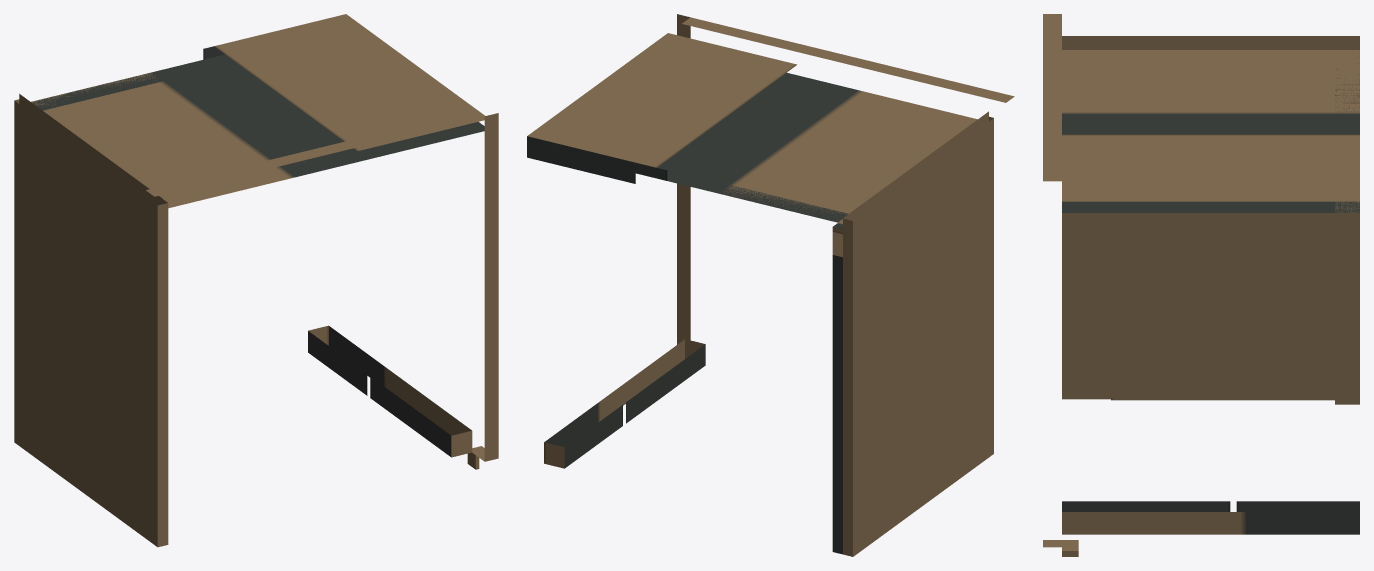
Rendered from section-8.obj.
3 renders of one model, left to right at view 1: azimuth 30°, elevation 25°; view 2: azimuth 150°, elevation 25°; view 3: azimuth 270°, elevation 25°, orthographic. The views are drawn at different scales.
Size of the model in its own units: 0.99 by 0.99 by 0.76.
